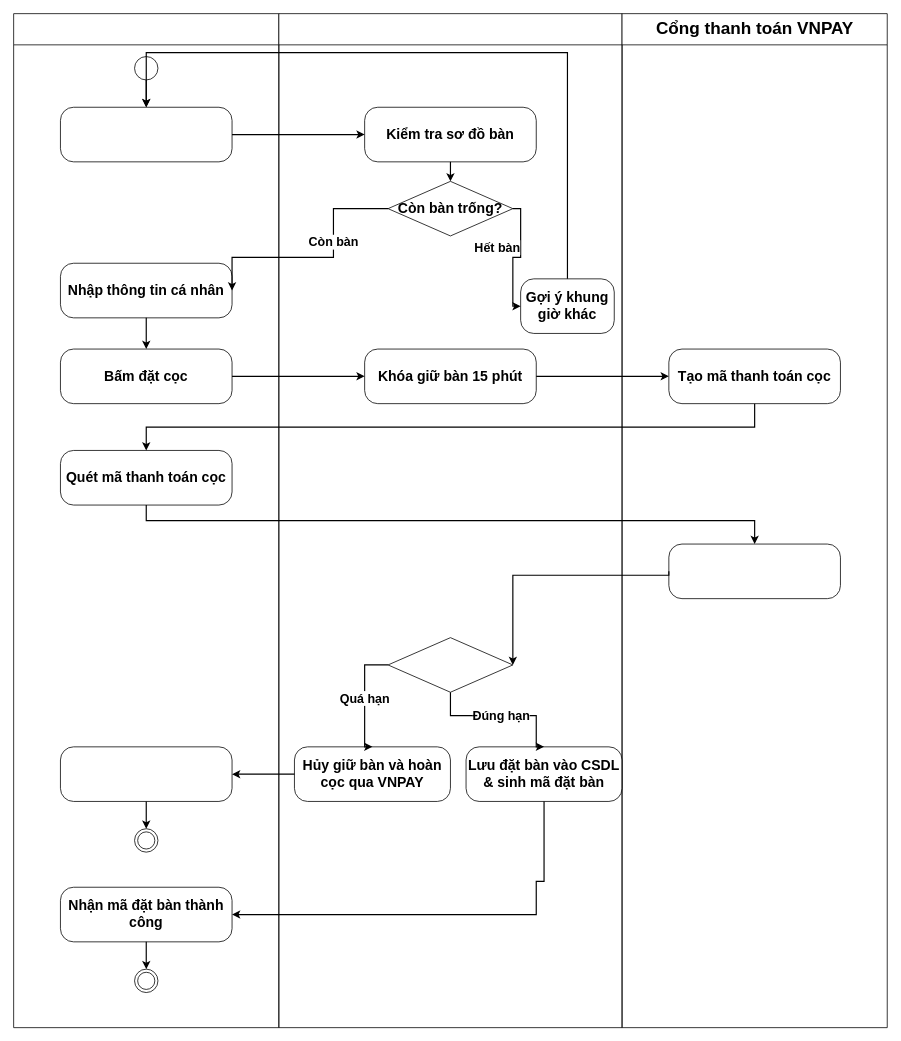
This 901x1041 diagram has some shape labels left out. Here are the shapes that lost their labels. From the top down, the box of each, then its label:
(60, 106, 232, 162): Chọn thời gian & số khách
(13, 13, 279, 1028): Khách hàng
(278, 13, 622, 1028): Hệ thống
(668, 543, 840, 599): Xử lý giao dịch và gửi kết quả
(387, 637, 513, 692): Đúng hạn 15 phút?
(60, 746, 232, 801): Nhận thông báo hủy đặt bàn
